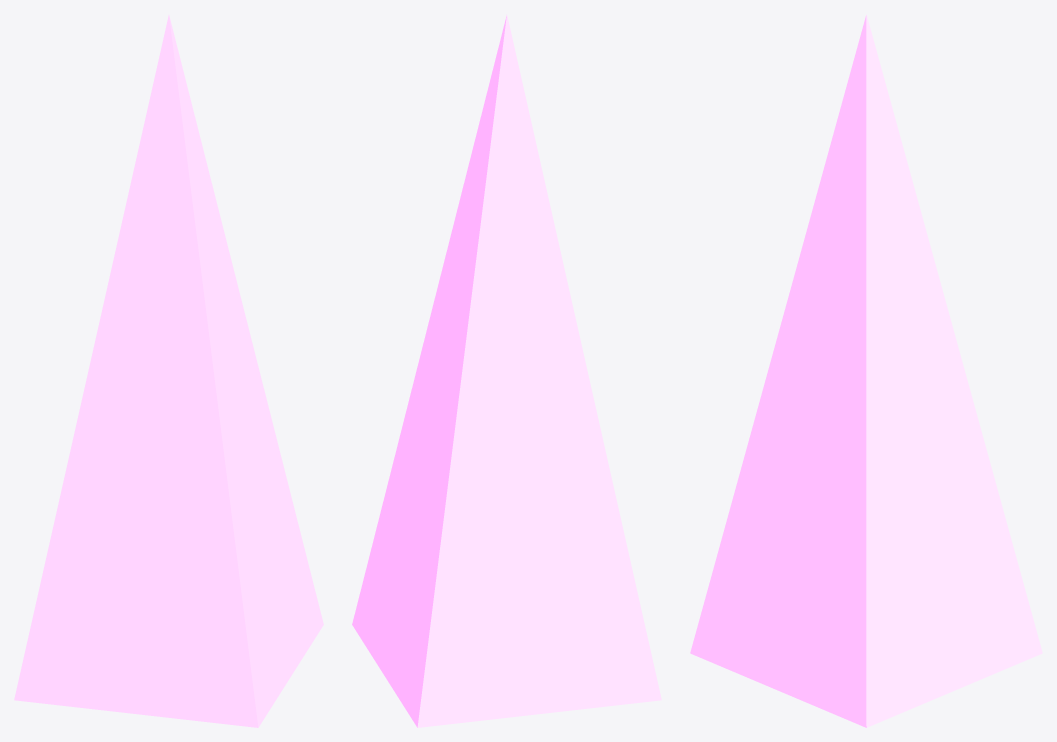
Rendered from Cone_before.fbx.
3 renders of one model, left to right at view 1: azimuth 30°, elevation 25°; view 2: azimuth 150°, elevation 25°; view 3: azimuth 270°, elevation 25°, orthographic.
Parts seen in each view (by area): view 1: Cone_before; view 2: Cone_before; view 3: Cone_before.
Boxes of the visible parts, <box> form: Cone_before: <box>14,15,323,727</box>; Cone_before: <box>352,15,661,727</box>; Cone_before: <box>690,14,1042,727</box>.
Bounding box in the file's own units: 20 × 40 × 20.
